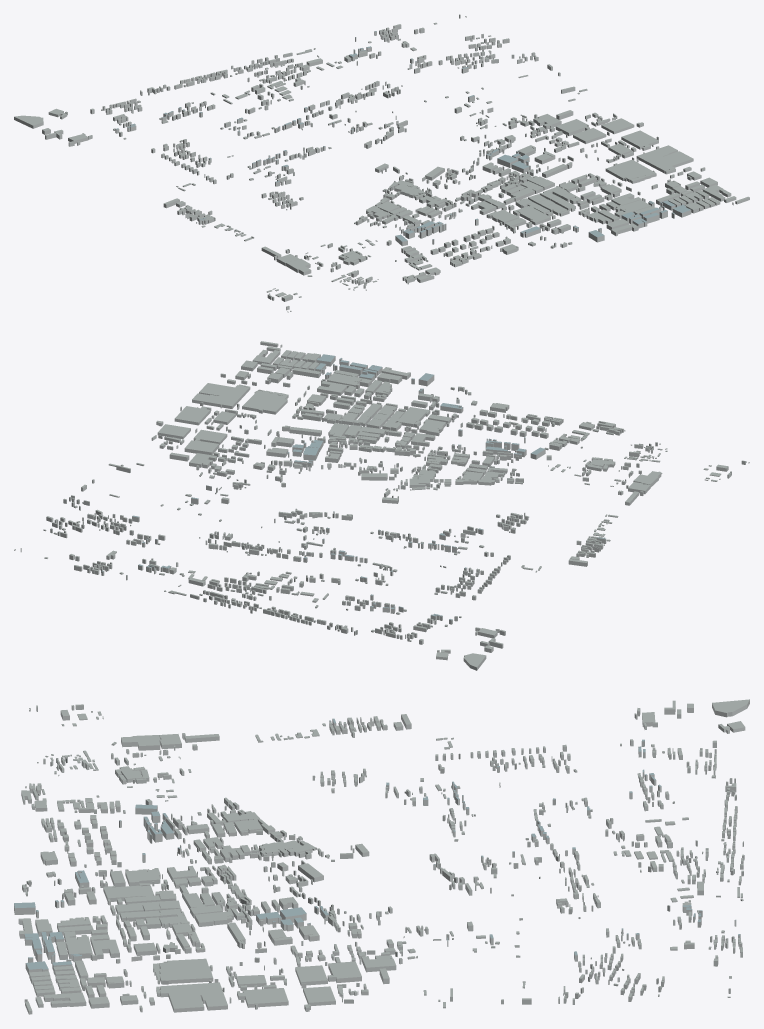
Rendered from far.glb.
3 renders of one model, top to bottom at view 1: azimuth 30°, elevation 25°; view 2: azimuth 150°, elevation 25°; view 3: azimuth 270°, elevation 25°, orthographic. The views are drawn at different scales.
Bounding box in the file's own units: 2143 × 27.4 × 2145.
